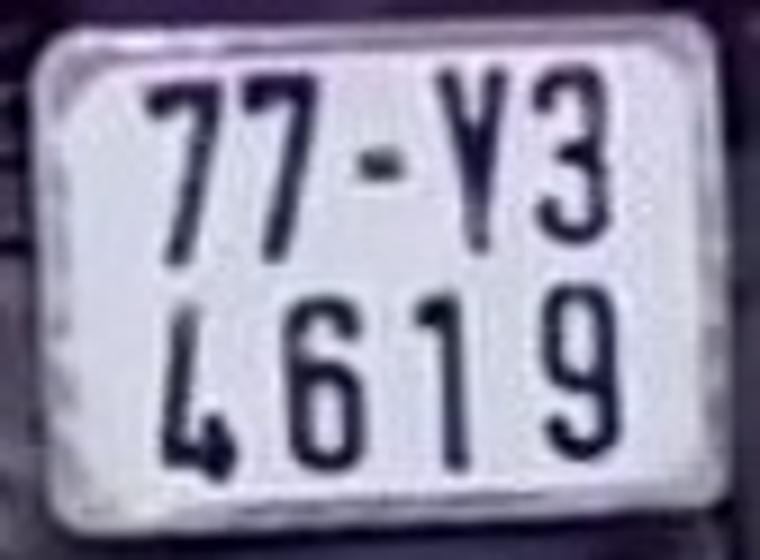-: (342, 140, 415, 185)
1: (410, 287, 477, 479)
3: (527, 56, 615, 252)
4: (147, 299, 238, 491)
6: (274, 288, 369, 494)
7: (142, 66, 228, 273), (237, 69, 320, 268)
9: (534, 271, 620, 458)
Y: (431, 54, 513, 252)
